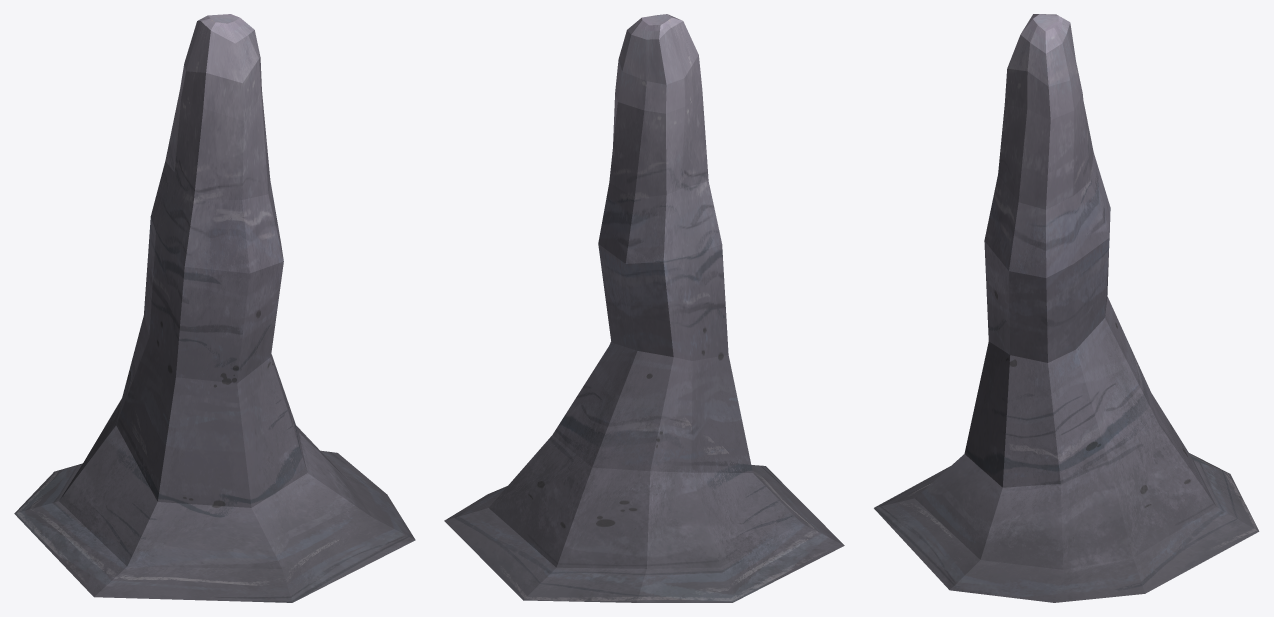
The model's file is spire_1_001.fbx.
The picture shows the model from 3 angles, left to right: view 1: azimuth 30°, elevation 25°; view 2: azimuth 150°, elevation 25°; view 3: azimuth 270°, elevation 25°; orthographic projection. The views are drawn at different scales.
Parts seen in each view (by area): view 1: spire 1.001; view 2: spire 1.001; view 3: spire 1.001.
Part boxes in pixels (x1,y1,x2,y2): spire 1.001: [14, 14, 415, 602]; spire 1.001: [444, 14, 844, 602]; spire 1.001: [874, 14, 1259, 602].
Bounding box in the file's own units: 189 × 288 × 200.
